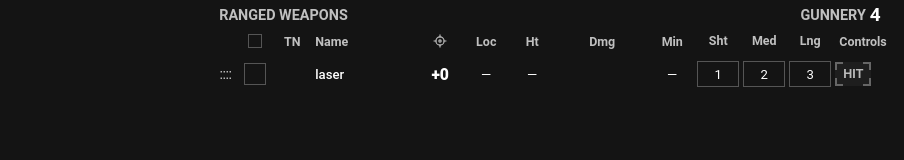
Test: WeaponsEquipmentPanelComponent › shows submerged targets as disabled X choices for above-water weapons
Click the 2nd button with class "target-selector": [255, 74] box [244,63,266,85]
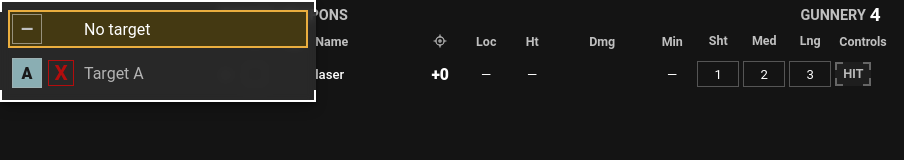
Expected: the button with class "target-choice" showing "A X Target A" is disabled, [8,54,308,92]
